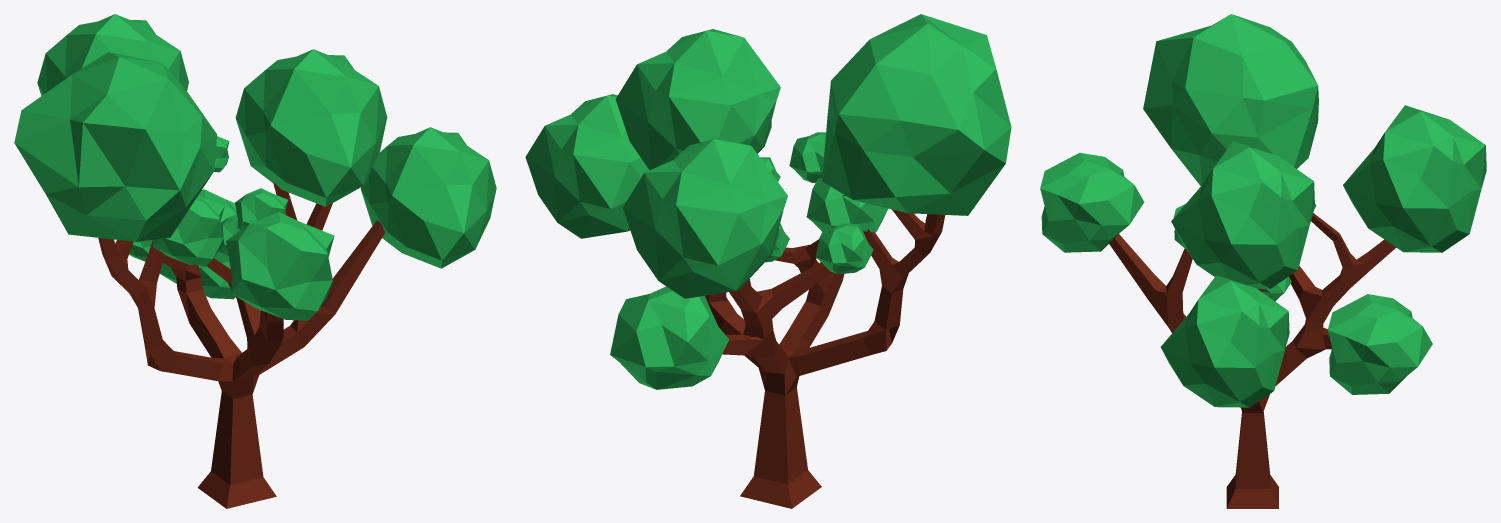
Rendered from tree1.fbx.
3 renders of one model, left to right at view 1: azimuth 30°, elevation 25°; view 2: azimuth 150°, elevation 25°; view 3: azimuth 270°, elevation 25°, orthographic. The views are drawn at different scales.
Visible parts, largest first — view 1: Icosphere.001, Plane, Icosphere.002, Icosphere.007, Icosphere, Icosphere.003, Icosphere.006, Icosphere.008, Icosphere.004; view 2: Icosphere.001, Plane, Icosphere.003, Icosphere.002, Icosphere.007, Icosphere.008, Icosphere.006, Icosphere.005, Icosphere.004; view 3: Icosphere.001, Icosphere.003, Icosphere.002, Icosphere.007, Plane, Icosphere.008, Icosphere.
Part boxes in pixels (left/top/right/bottom): Icosphere.001: left=14, top=52, right=216, bottom=241; Plane: left=98, top=182, right=384, bottom=508; Icosphere.002: left=235, top=49, right=387, bottom=206; Icosphere.007: left=361, top=127, right=496, bottom=268; Icosphere: left=226, top=212, right=334, bottom=320; Icosphere.003: left=37, top=14, right=188, bottom=95; Icosphere.006: left=152, top=195, right=224, bottom=265; Icosphere.008: left=159, top=189, right=236, bottom=299; Icosphere.004: left=235, top=188, right=288, bottom=229; Icosphere.001: left=822, top=14, right=1011, bottom=215; Plane: left=705, top=195, right=945, bottom=508; Icosphere.003: left=622, top=137, right=787, bottom=298; Icosphere.002: left=615, top=29, right=780, bottom=170; Icosphere.007: left=525, top=94, right=649, bottom=238; Icosphere.008: left=610, top=286, right=729, bottom=389; Icosphere.006: left=806, top=177, right=888, bottom=233; Icosphere.005: left=815, top=223, right=873, bottom=274; Icosphere.004: left=789, top=132, right=825, bottom=182; Icosphere.001: left=1143, top=14, right=1318, bottom=185; Icosphere.003: left=1343, top=105, right=1486, bottom=252; Icosphere.002: left=1171, top=141, right=1314, bottom=288; Icosphere.007: left=1160, top=275, right=1289, bottom=407; Plane: left=1109, top=213, right=1396, bottom=508; Icosphere.008: left=1327, top=294, right=1432, bottom=394; Icosphere: left=1040, top=152, right=1144, bottom=252.
Size of the model in its own units: 1052 by 1049 by 995.
